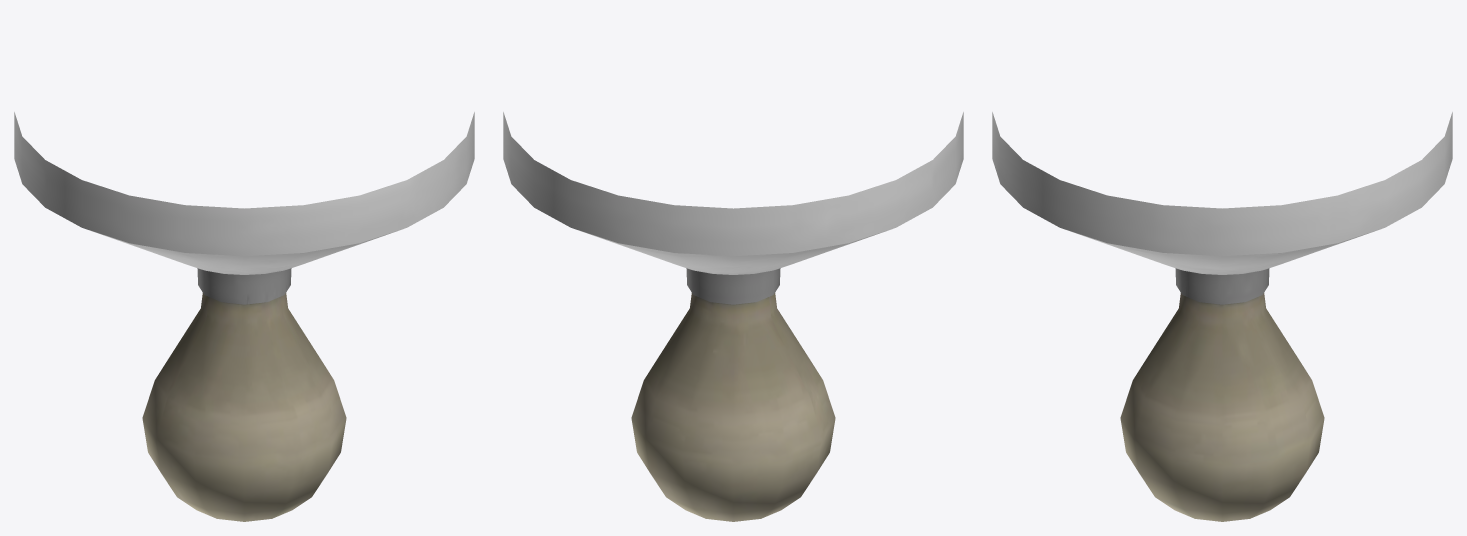
3 views of the same model, side by side, from view 1: azimuth 30°, elevation 25°; view 2: azimuth 150°, elevation 25°; view 3: azimuth 270°, elevation 25° (orthographic).
Visible parts, largest first — view 1: body0_model0_lod0_mesh0; view 2: body0_model0_lod0_mesh0; view 3: body0_model0_lod0_mesh0.
Part boxes in pixels (x1=…): body0_model0_lod0_mesh0: x1=14, y1=112, x2=474, y2=521; body0_model0_lod0_mesh0: x1=503, y1=112, x2=963, y2=521; body0_model0_lod0_mesh0: x1=992, y1=112, x2=1452, y2=521.
Bounding box in the file's own units: 19.19 × 18.5 × 19.19.
1 material, 1 textured.
